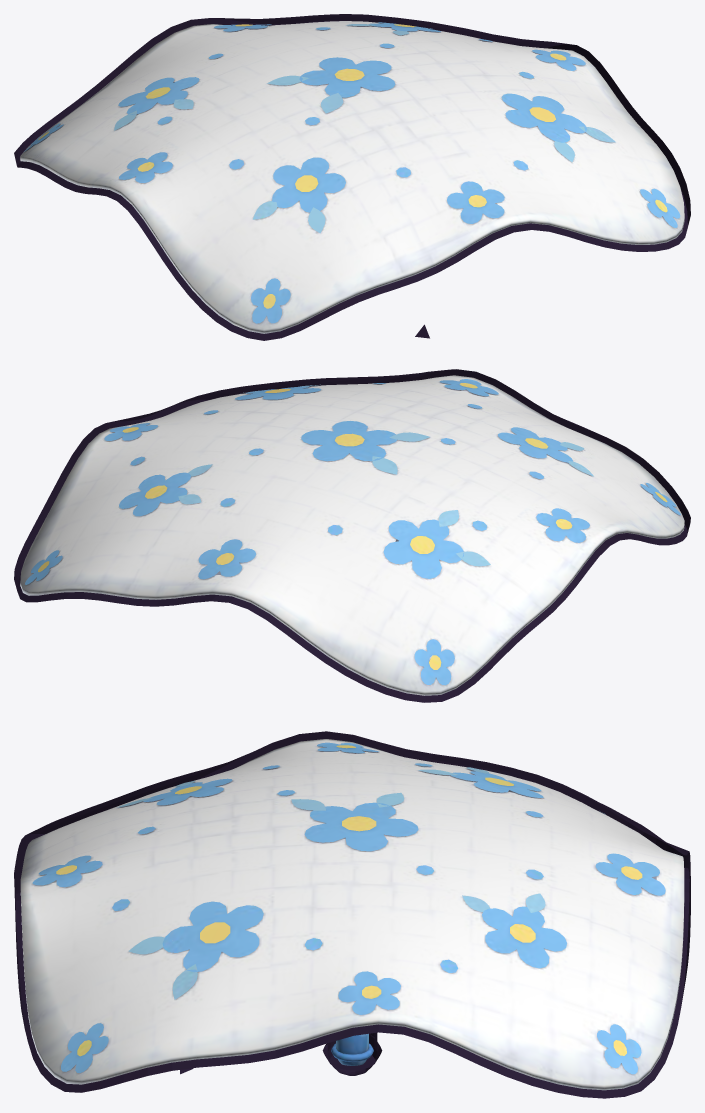
The model's file is DryerSheet.glb.
3 renders of one model, top to bottom at view 1: azimuth 30°, elevation 25°; view 2: azimuth 150°, elevation 25°; view 3: azimuth 270°, elevation 25°, orthographic. The views are drawn at different scales.
Parts seen in each view (by area): view 1: DryerSheet, DryerSheet_Outline; view 2: DryerSheet, DryerSheet_Outline; view 3: DryerSheet, DryerSheet_Outline.
Boxes of the visible parts, box(x1,y1,x2,y2) form: DryerSheet: box(20, 21, 684, 333); DryerSheet_Outline: box(14, 14, 690, 340); DryerSheet: box(20, 375, 684, 695); DryerSheet_Outline: box(14, 369, 690, 702); DryerSheet: box(20, 739, 684, 1090); DryerSheet_Outline: box(14, 731, 690, 1098).
Size of the model in its own units: 4.08 by 1.7 by 4.08.
2 materials, 2 textured.
